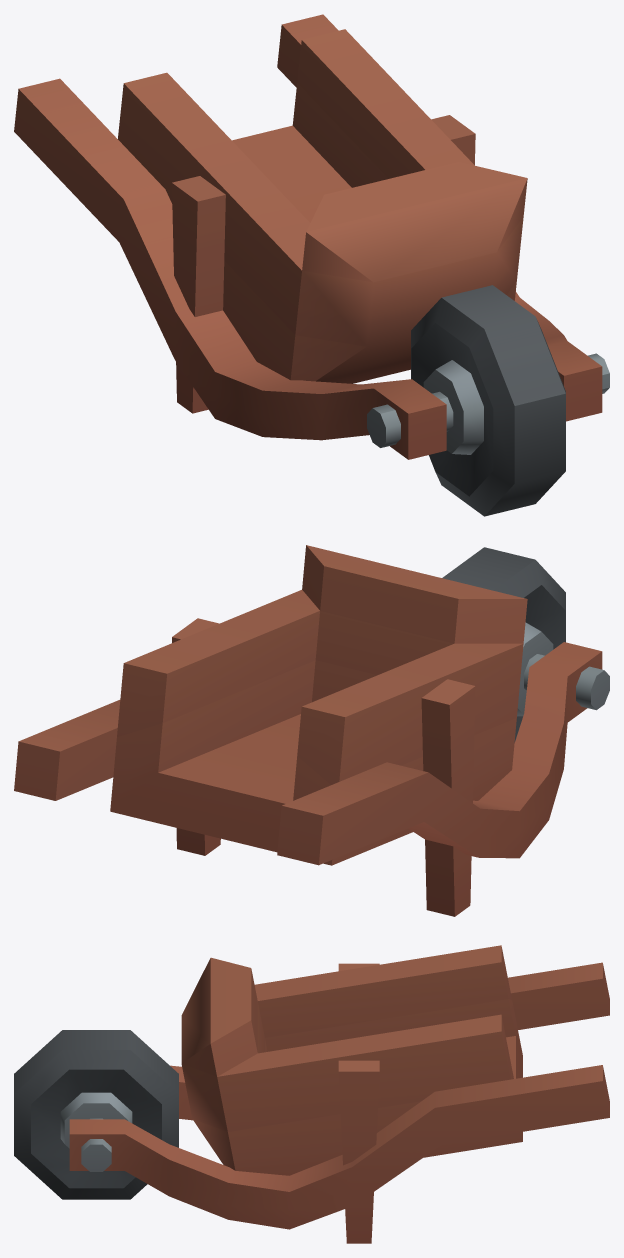
File: d_kaykit_brouette.glb
The picture shows the model from 3 angles, top to bottom: view 1: azimuth 30°, elevation 25°; view 2: azimuth 150°, elevation 25°; view 3: azimuth 270°, elevation 25°; orthographic projection. The views are drawn at different scales.
Parts seen in each view (by area): view 1: d_kaykit_brouette; view 2: d_kaykit_brouette; view 3: d_kaykit_brouette.
Boxes of the visible parts, x1,y1,x2,y2 form: d_kaykit_brouette: (14,14,609,516); d_kaykit_brouette: (14,545,609,916); d_kaykit_brouette: (14,945,609,1243).
Size of the model in its own units: 0.238 by 0.1884 by 0.5057.
Materials: 1 (1 with a texture image).
